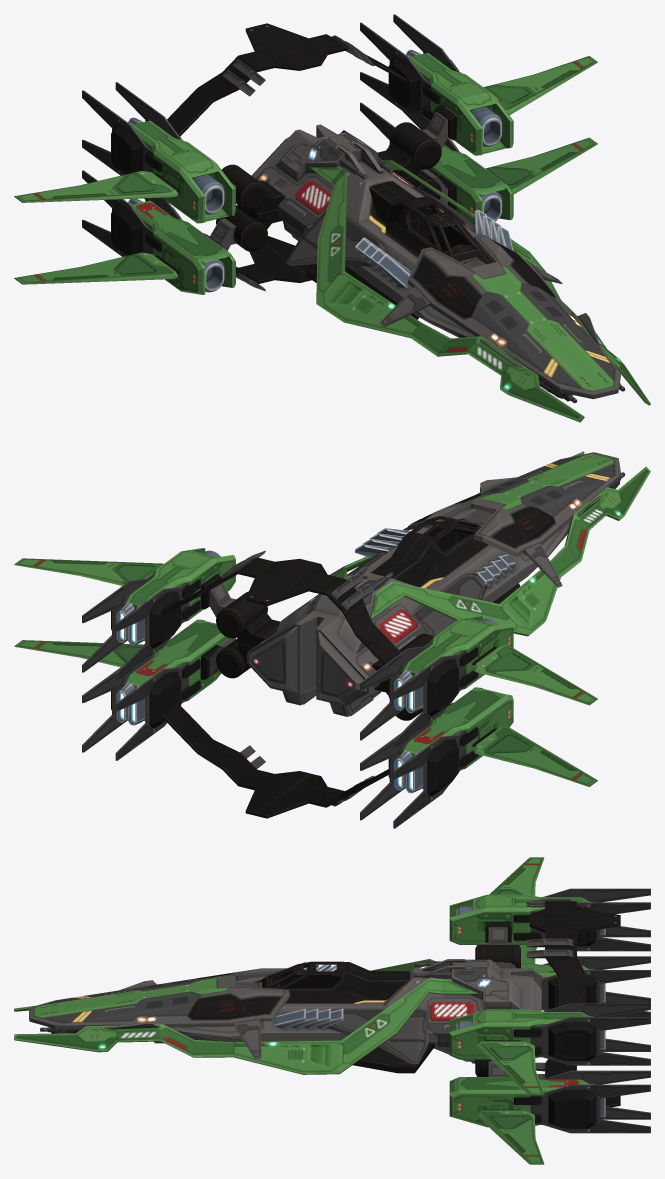
File: cutter-lance.glb
3 renders of one model, top to bottom at view 1: azimuth 30°, elevation 25°; view 2: azimuth 150°, elevation 25°; view 3: azimuth 270°, elevation 25°, orthographic. The views are drawn at different scales.
Parts seen in each view (by area): view 1: hull; view 2: hull; view 3: hull.
Part boxes in pixels (box(x1,y1,x2,y2)): hull: box(14, 14, 650, 422); hull: box(14, 451, 650, 828); hull: box(14, 857, 650, 1164).
Size of the model in its own units: 0.8817 by 0.3179 by 1.
Materials: 1 (1 with a texture image).
